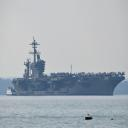Portanaves: (13, 38, 127, 98)
